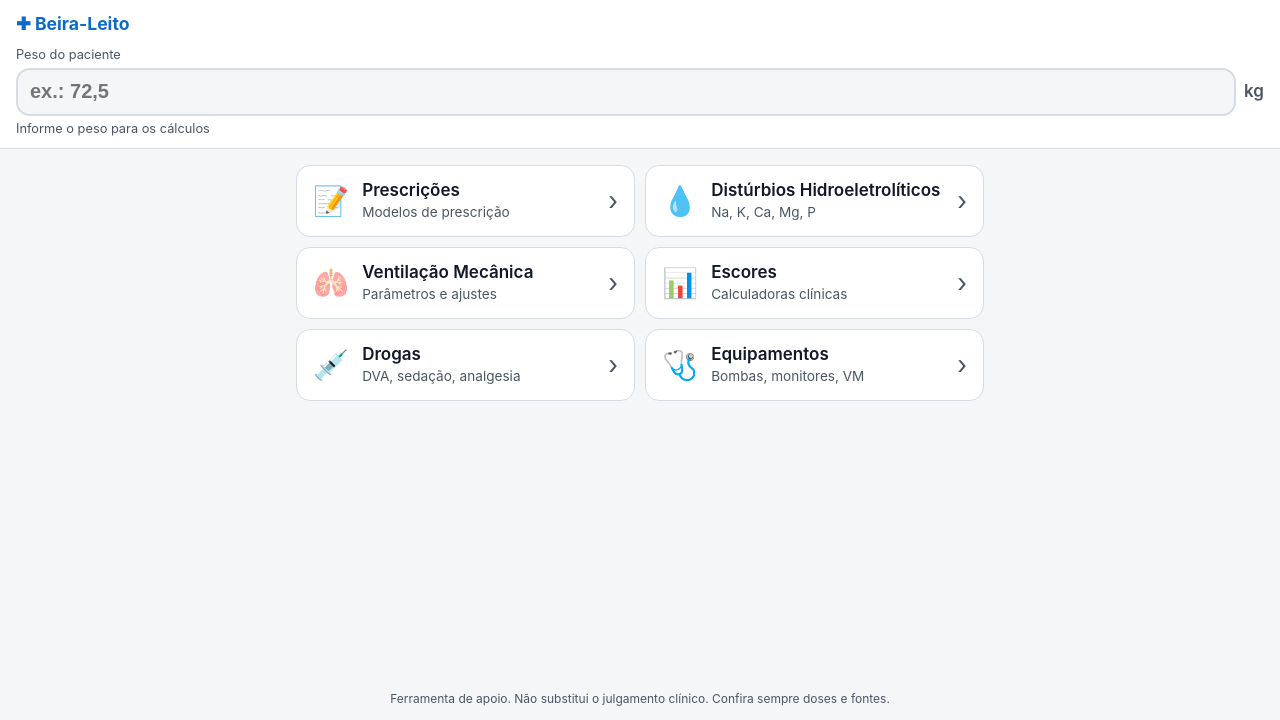
Test: página inicial › abre a página "Ventilação Mecânica"
The image size is (1280, 720).
Click the link "🫁 Ventilação Mecânica Parâmetros e ajustes ›". click: (466, 283)
box: [296, 247, 635, 319]
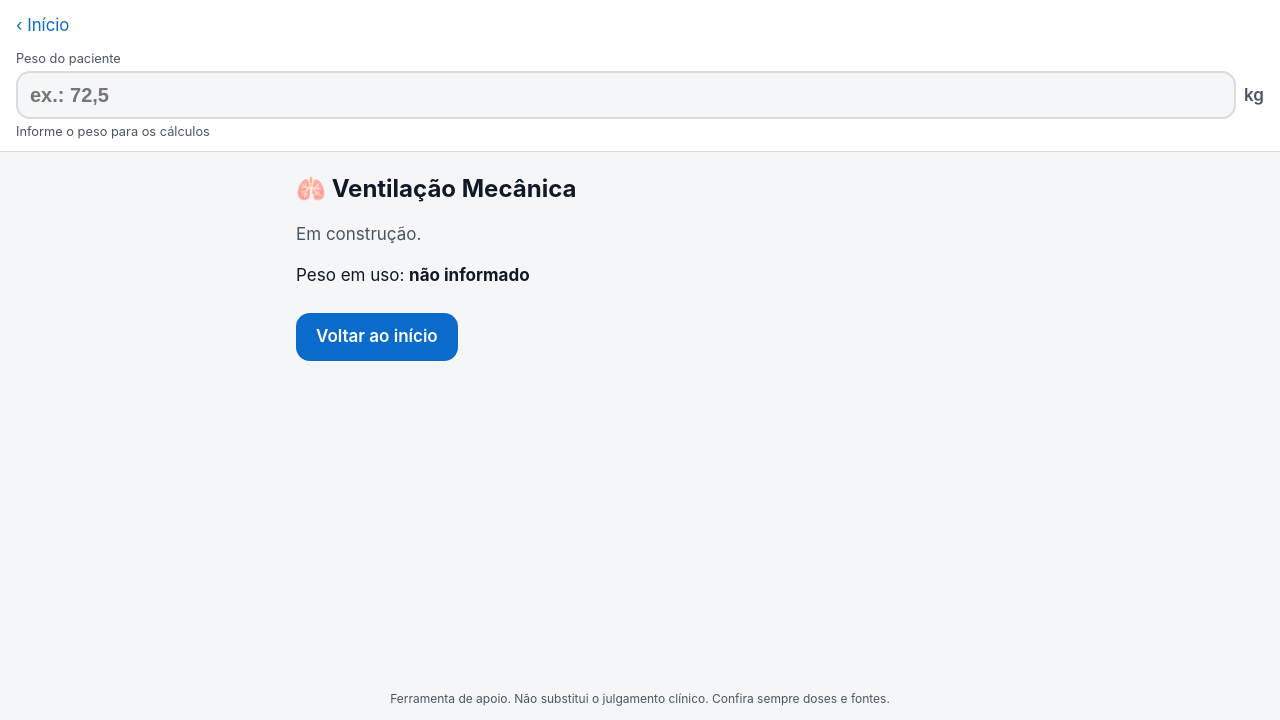
expect the heading shows "Ventilação Mecânica": met, box [332, 174, 576, 203]
expect the text "Em construção." is shown: met, box [296, 224, 421, 244]
